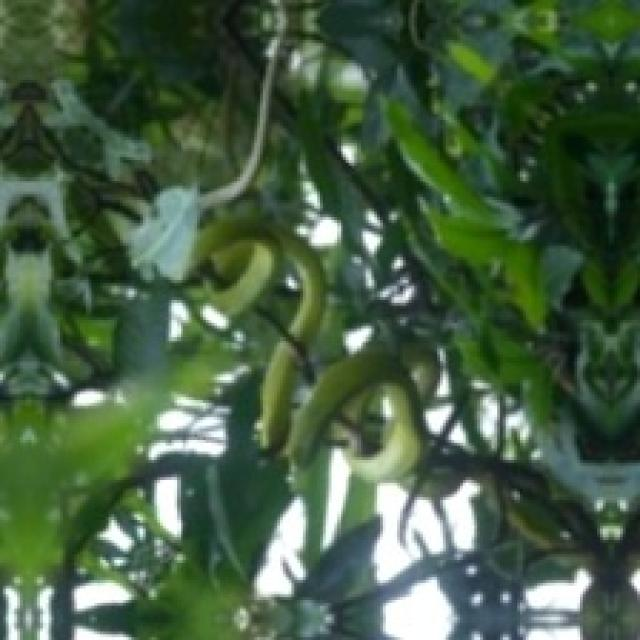red-tailed green ratsnake: (194, 220, 423, 480), (286, 349, 423, 480), (257, 231, 323, 449)
